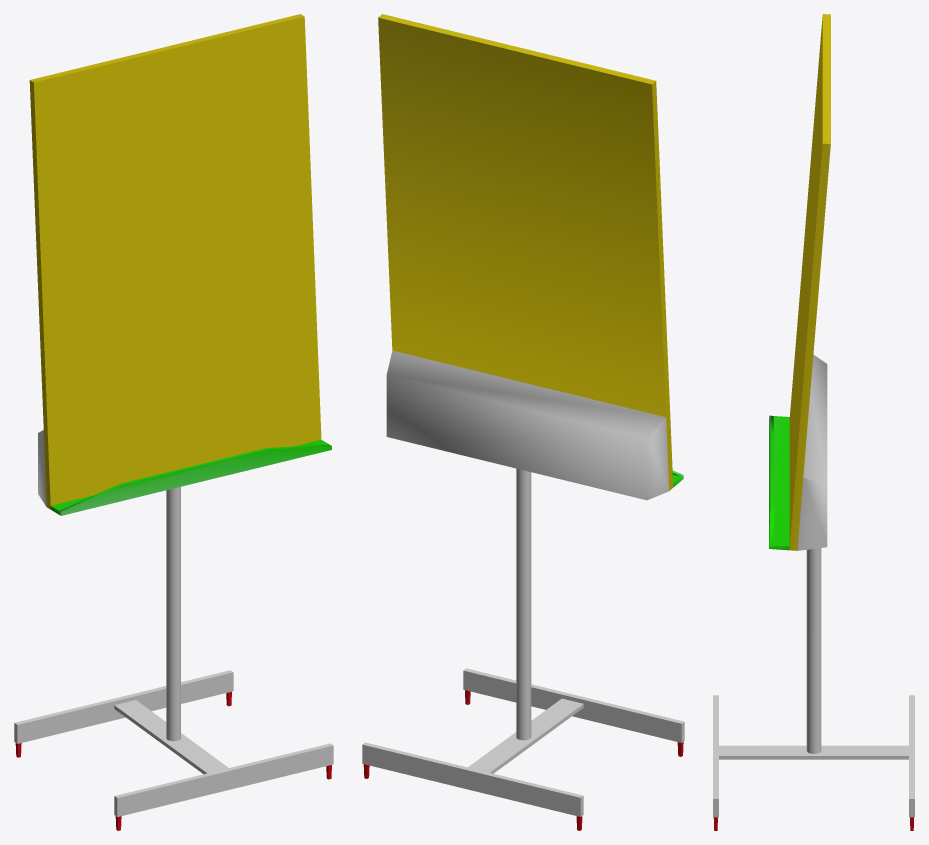
The model's file is Paperboard_V2.fbx.
3 views of the same model, side by side, from view 1: azimuth 30°, elevation 25°; view 2: azimuth 150°, elevation 25°; view 3: azimuth 270°, elevation 25° (orthographic). The views are drawn at different scales.
Parts seen in each view (by area): view 1: Paperboard; view 2: Paperboard; view 3: Paperboard.
Part boxes in pixels (x1,y1,x2,y2): Paperboard: (14, 14, 333, 830); Paperboard: (362, 14, 684, 830); Paperboard: (713, 14, 914, 830).
Size of the model in its own units: 74.97 by 189 by 49.34.
